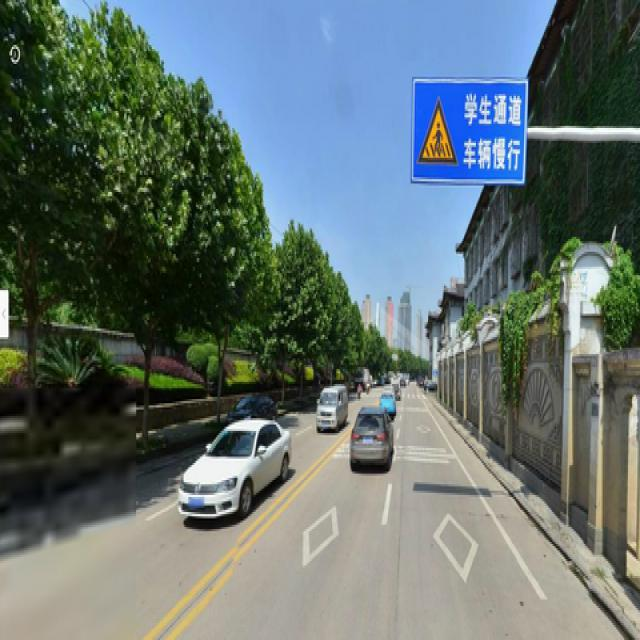meta: (115, 51, 173, 420), (200, 98, 248, 416)
